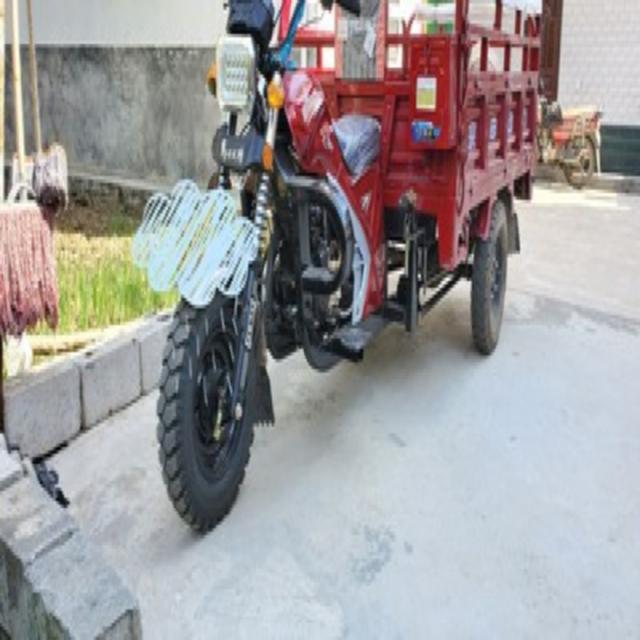motorbike: (534, 78, 604, 190)
tricycle: (150, 0, 544, 525)
